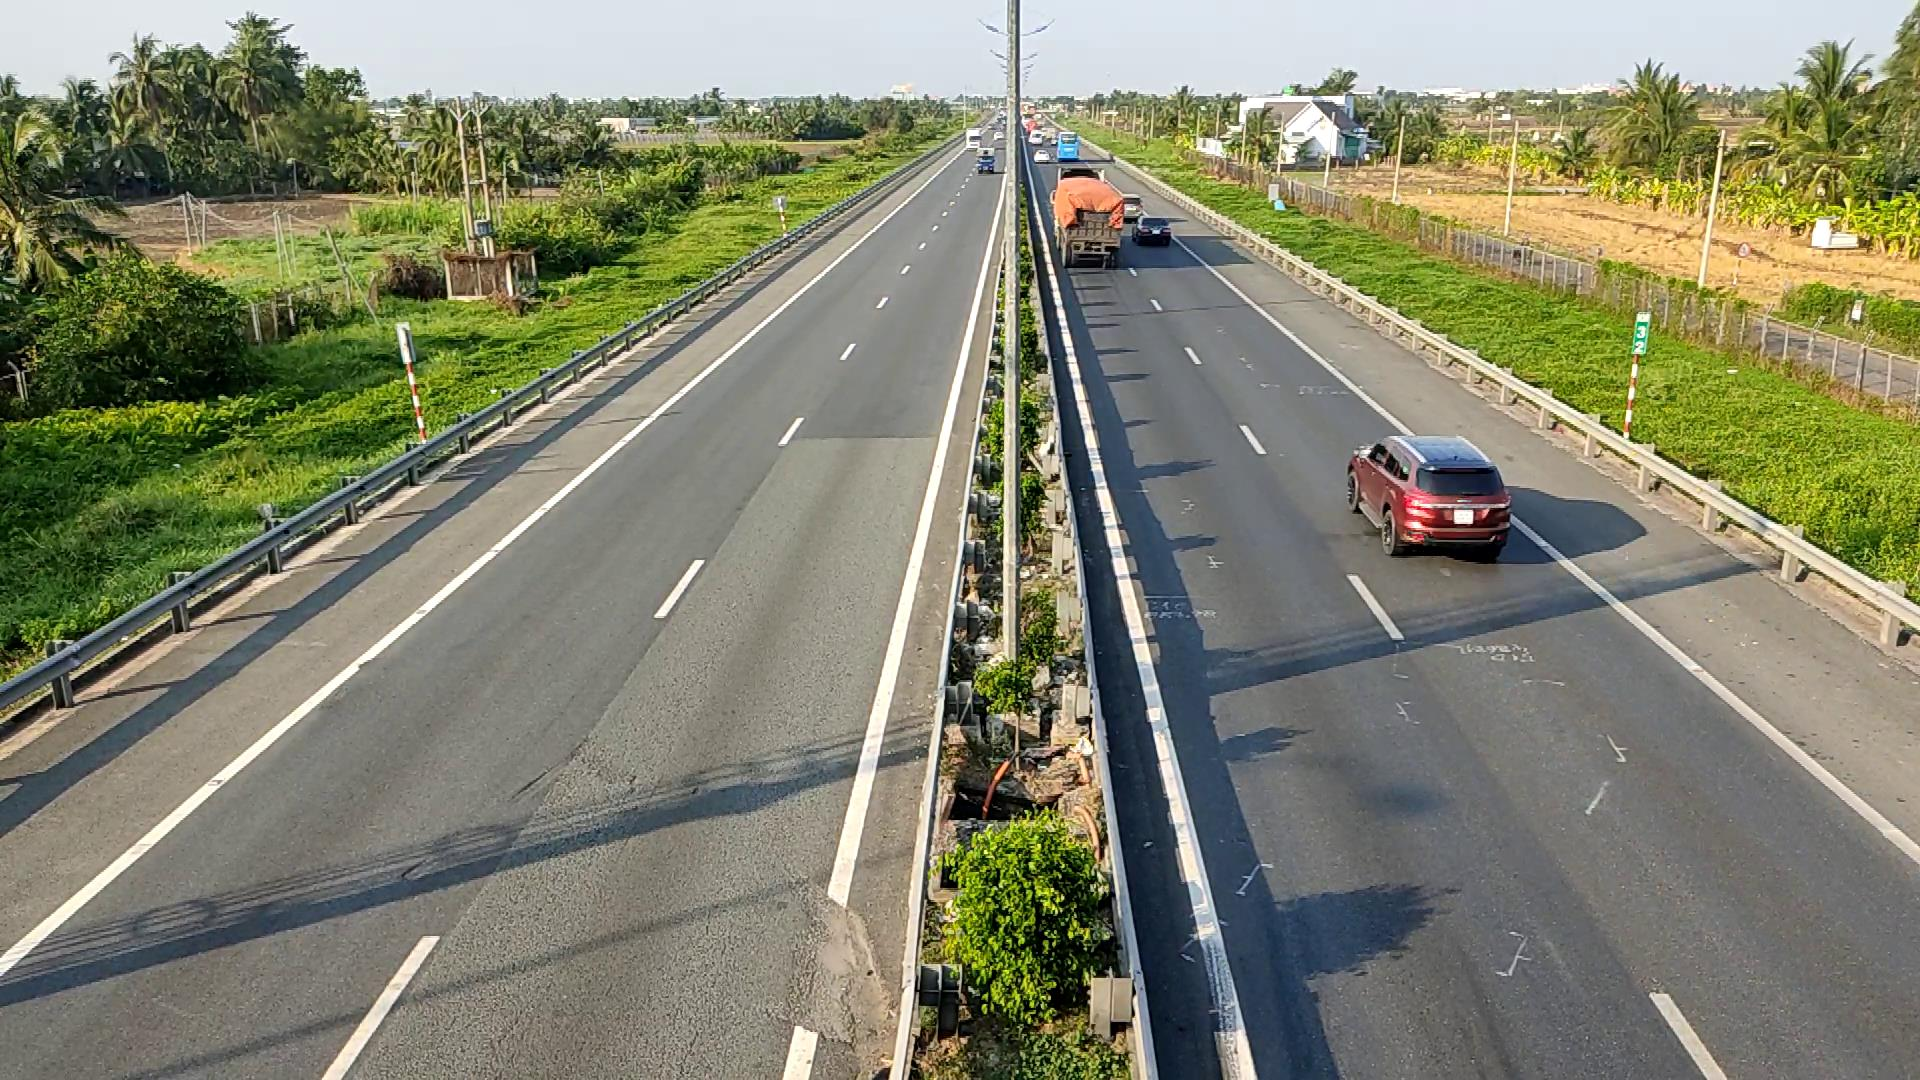car: (1345, 431, 1513, 559), (1131, 215, 1172, 247)
truck: (1052, 169, 1126, 266)
